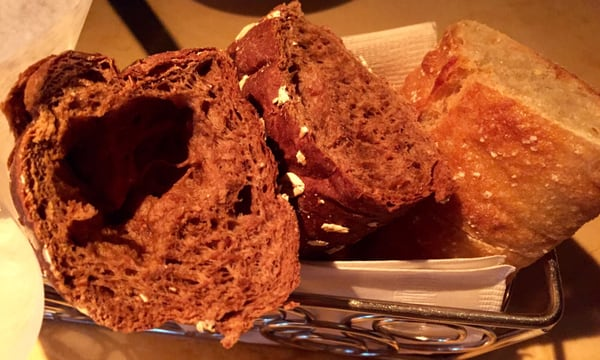sandwich: (105, 0, 180, 57)
